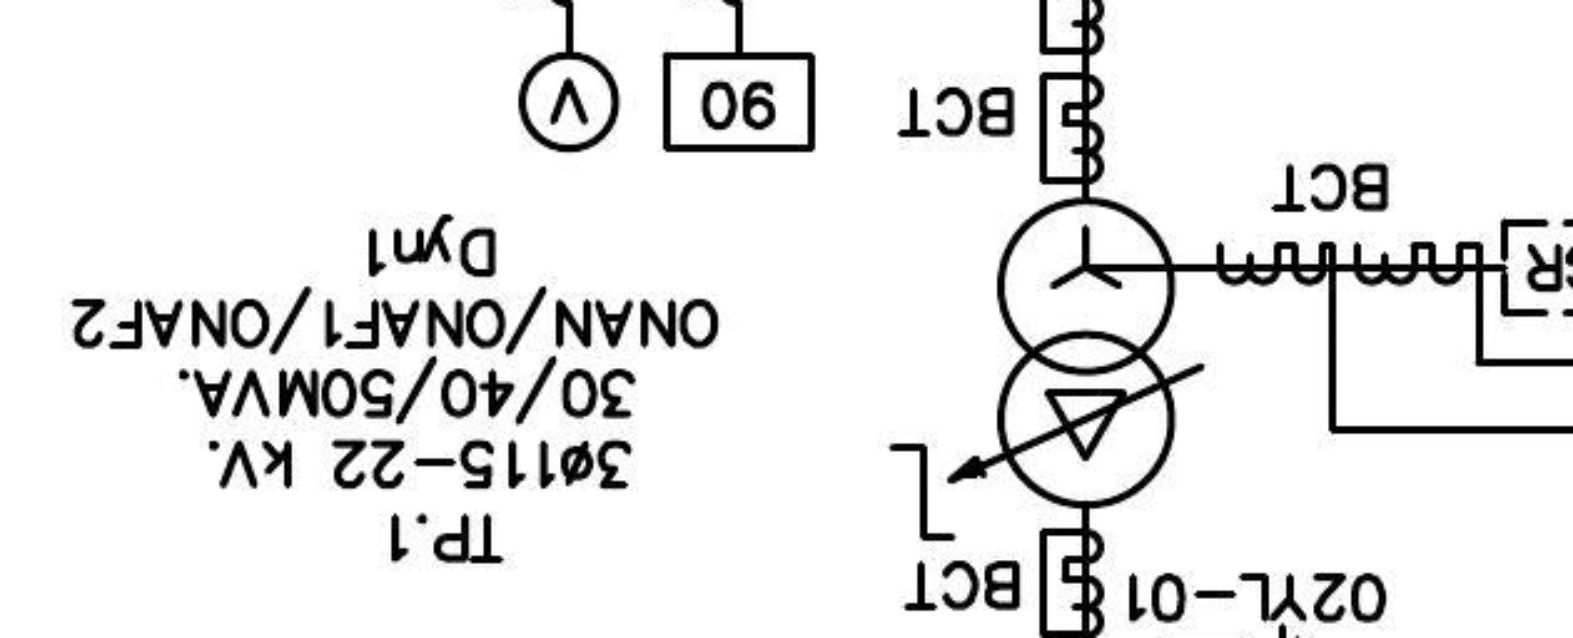11522_tx_dyn1: (995, 195, 1178, 511)
v_m: (516, 50, 623, 155)
